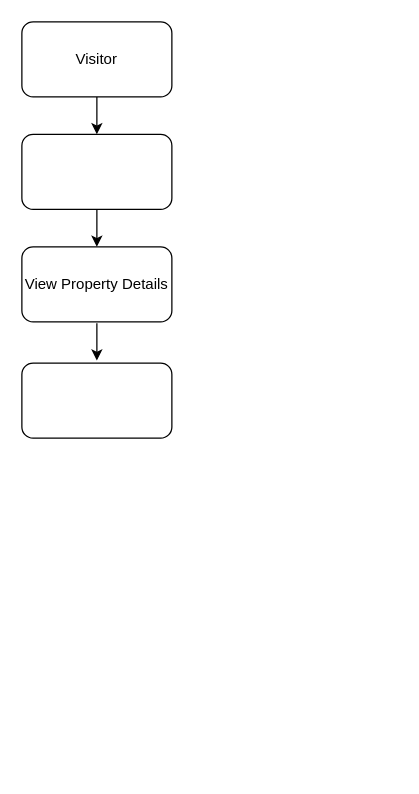
Some shapes in this 419 by 794 pixel diagram are drawn without their labels. Each missing label, with the box of its shape:
Browse Properties: (21, 133, 172, 209)
Register Account: (21, 362, 172, 438)
